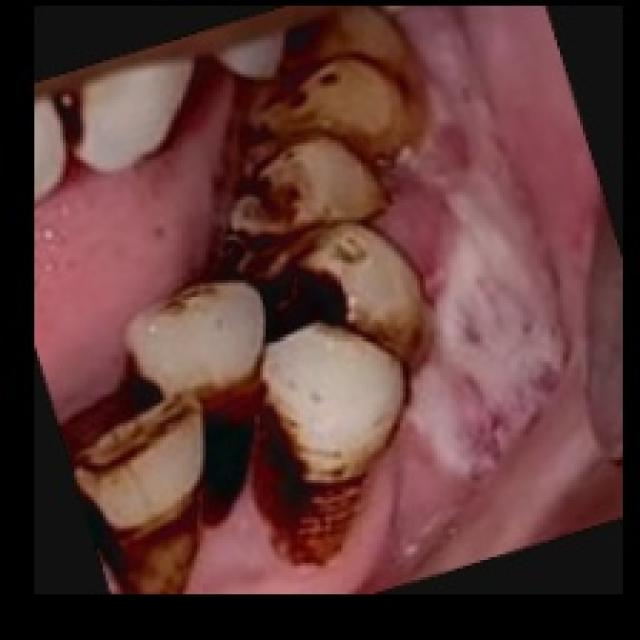leukoplakia-like-detection: (362, 4, 569, 593)
processing_area: (181, 0, 625, 598)
